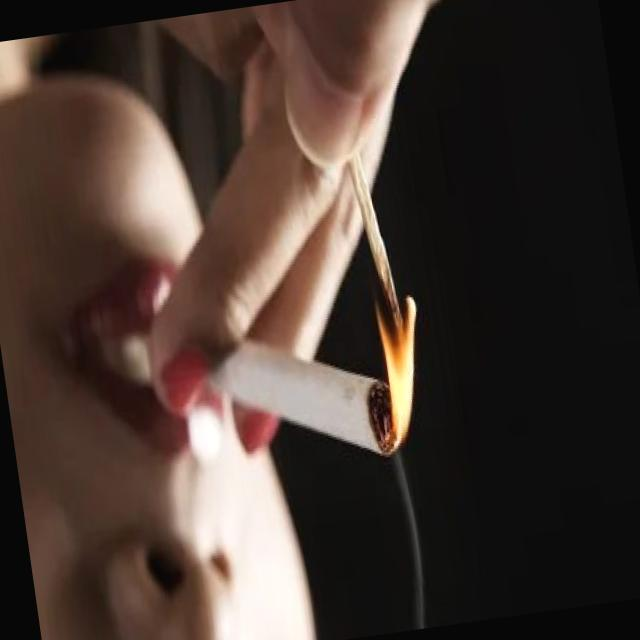smoke: (191, 303, 412, 497)
